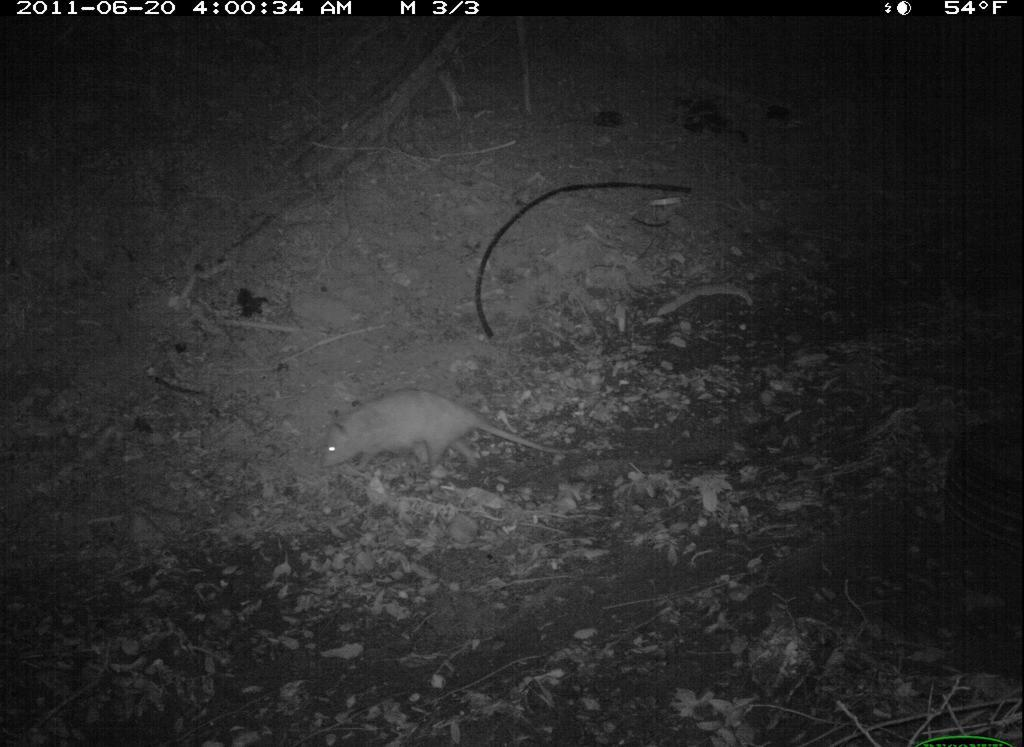opossum: (308, 385, 586, 514)
